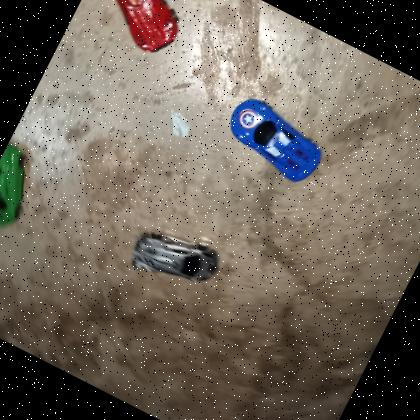Car: (216, 91, 333, 190), (123, 213, 228, 304), (72, 0, 206, 63)
